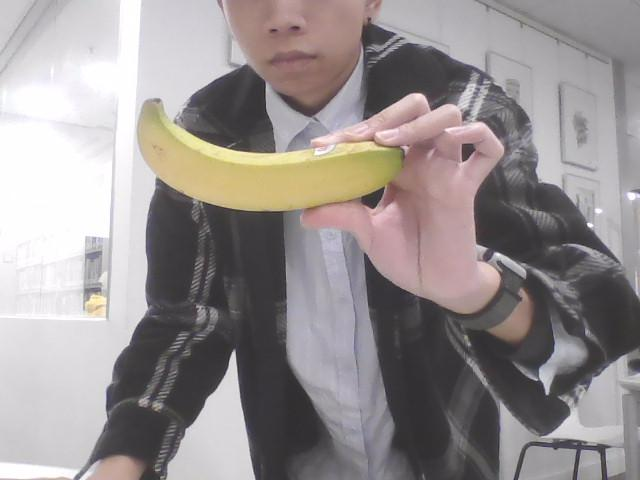banana: (136, 97, 405, 213)
